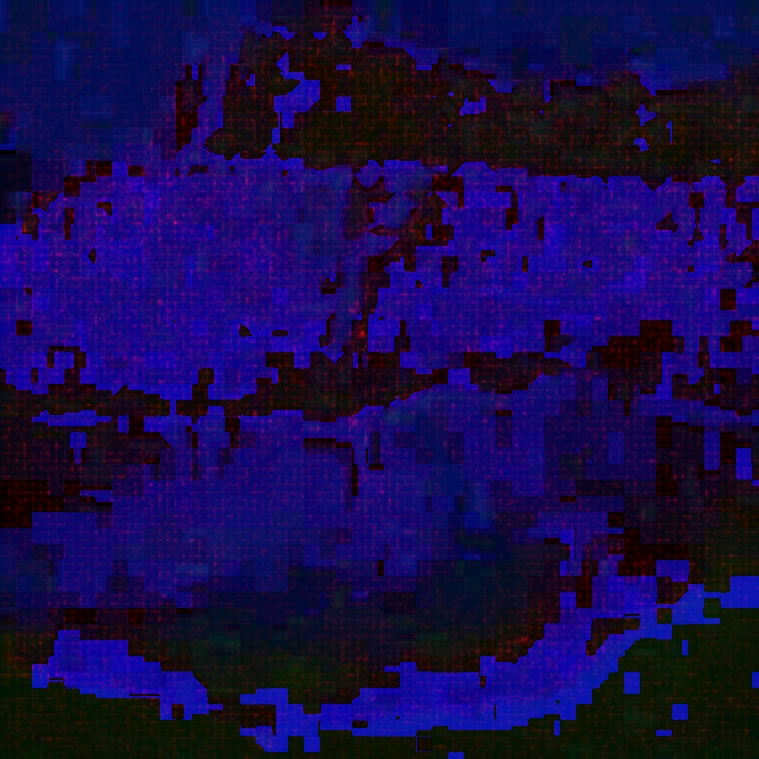rip_current: (232, 137, 640, 657)
